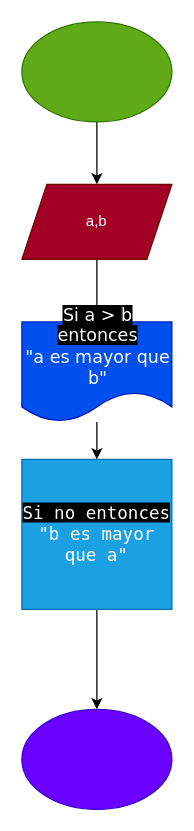
Some shapes in this 194 by 831 pixel diagram are drawn without their labels. The box of each missing label's shape, as (x1, y1, x2, y2) in pixels:
fin: (21, 708, 172, 809)
inicio: (21, 21, 172, 122)
